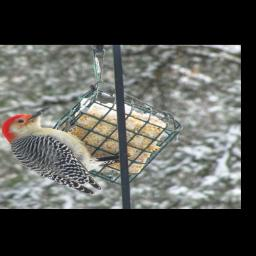Woodpecker: (1, 109, 124, 195)
